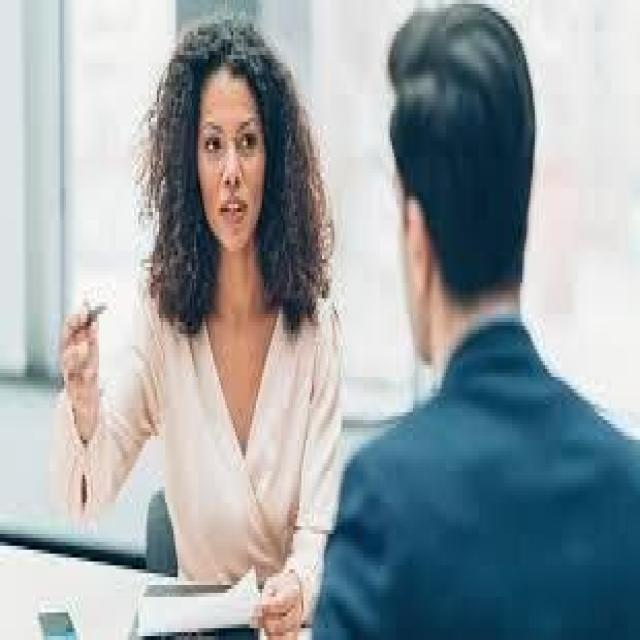person: (312, 0, 636, 636), (41, 0, 351, 613)
